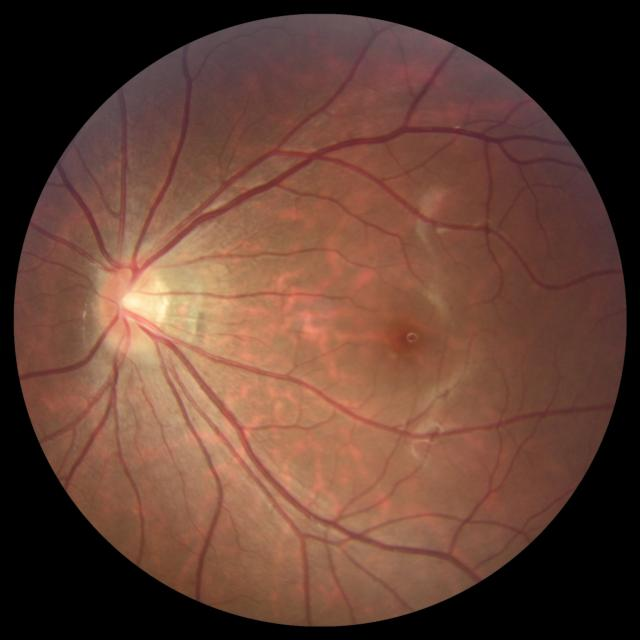OC: (115, 284, 151, 318)
OD: (97, 261, 168, 352)
